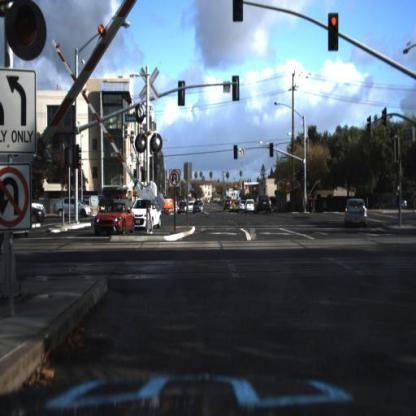car: (93, 200, 135, 236), (344, 190, 375, 237), (51, 197, 93, 223), (134, 199, 164, 230), (377, 187, 407, 213), (24, 207, 47, 226), (256, 193, 272, 220), (30, 212, 45, 233), (243, 193, 257, 214), (245, 196, 259, 216), (230, 195, 242, 216), (191, 200, 205, 217), (175, 200, 189, 216), (32, 202, 49, 215), (222, 195, 233, 212), (239, 192, 246, 216), (177, 201, 188, 216), (223, 195, 232, 213)
pedestrian: (394, 181, 405, 221), (398, 180, 408, 212)
trafficLight: (1, 1, 69, 66), (328, 13, 339, 52), (233, 138, 243, 164), (269, 141, 276, 159)
trafficLight-Green: (299, 164, 307, 185)
trafficLight-Red: (324, 9, 345, 58)
